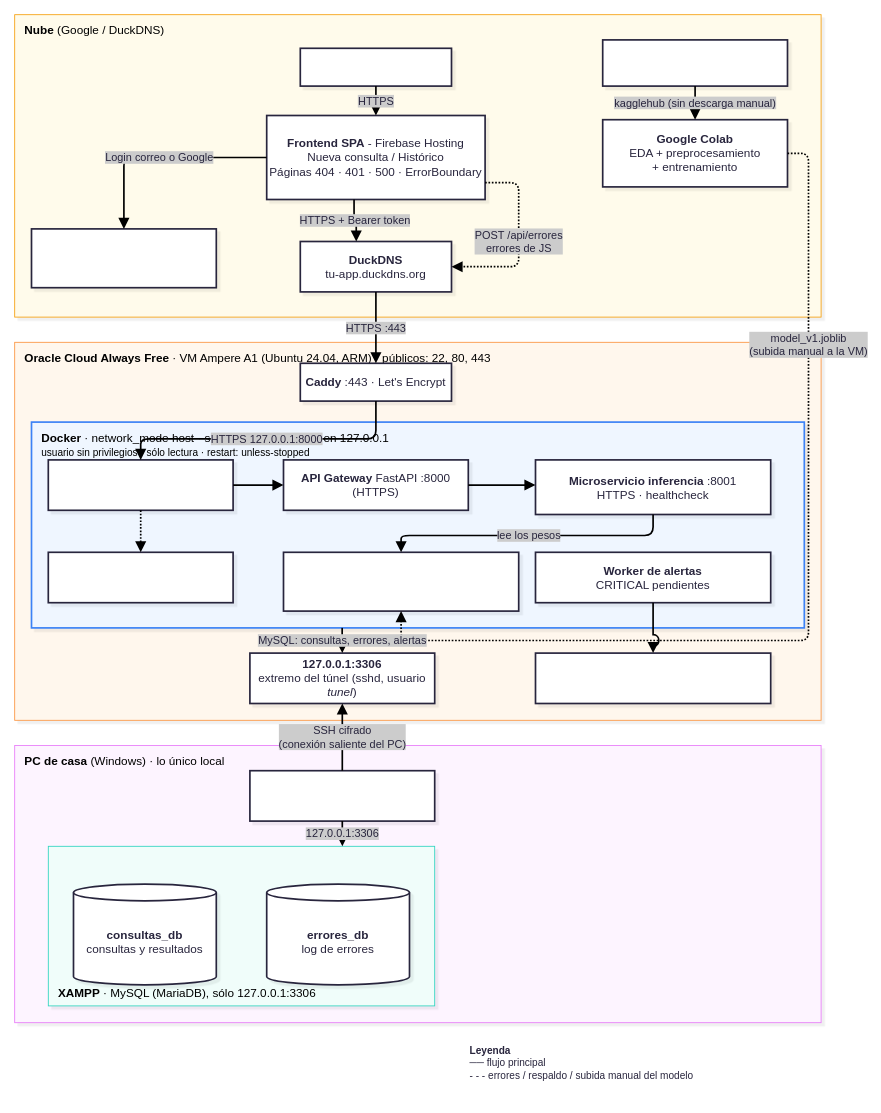
Image size: 881x1113. Some labels were removed from this diagram. The centre of each missing label's shape, as x and y in pixels:
Firebase Authentication correo/contraseña o Google: the point at 125,259
Kaggle stroke-prediction-dataset: the point at 696,64
Middleware X-Request-ID + manejadores de excepciones: the point at 142,486
Model registry models/model_v1.joblib (volumen de sólo lectura): the point at 402,583
Respaldo: archivo .log rotativo si MySQL no responde: the point at 142,578
ssh -R (tunel_mysql.bat) ssh incluido en Windows: the point at 343,797
Telegram / correo (servicios externos): the point at 654,679
Usuario (navegador): the point at 377,68
